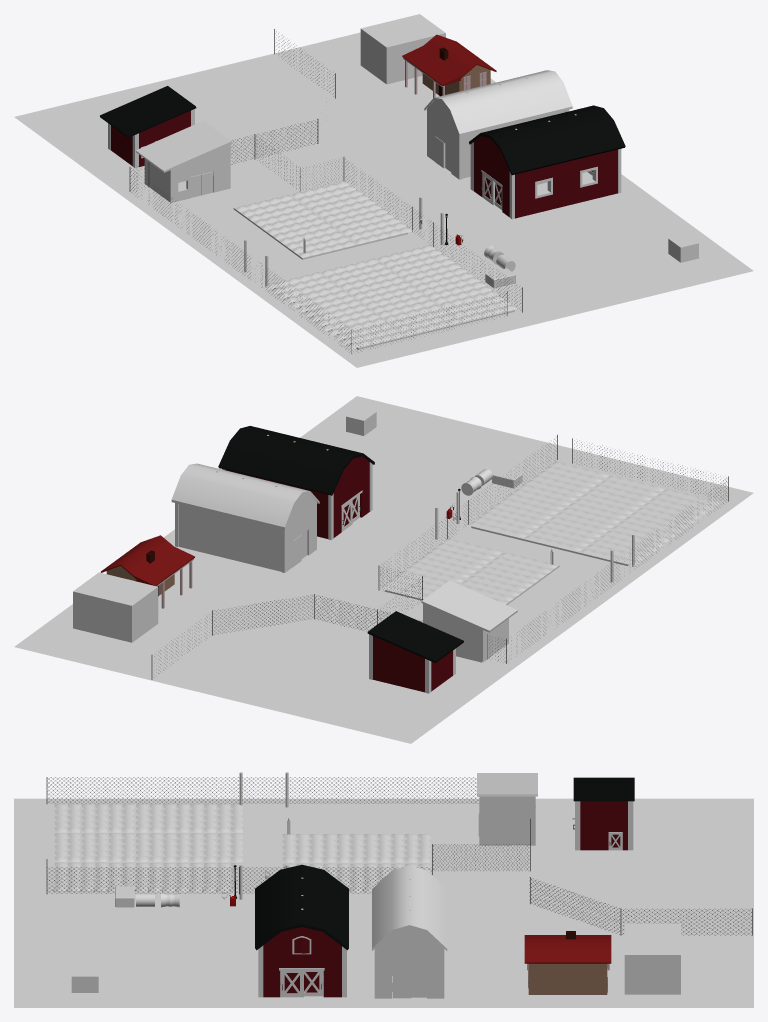
The model's file is MSH_Escenario.FBX.
3 renders of one model, top to bottom at view 1: azimuth 30°, elevation 25°; view 2: azimuth 150°, elevation 25°; view 3: azimuth 270°, elevation 25°, orthographic. The views are drawn at different scales.
Parts seen in each view (by area): view 1: Piso, MSH_Establo, Box001, Box046, Box162, Reja, Box005, G_Casa, Box002, Box064, Box058, Box043 (+3 smaller); view 2: Piso, MSH_Establo, Box001, Box162, Box046, Box005, Box044, Reja, G_Casa, Box064, Box002, Box043 (+3 smaller); view 3: Piso, Reja, MSH_Establo, Box001, G_Casa, Box046, Box162, Box005, Box045, Box060, Box002, Box064 (+6 smaller).
Part boxes in pixels (x1=…): Piso: x1=14, y1=32, x2=753, y2=367; MSH_Establo: x1=469, y1=105, x2=625, y2=219; Box001: x1=270, y1=245, x2=514, y2=349; Box046: x1=424, y1=70, x2=572, y2=136; Box162: x1=100, y1=86, x2=196, y2=168; Reja: x1=129, y1=29, x2=522, y2=353; Box005: x1=360, y1=14, x2=445, y2=84; G_Casa: x1=402, y1=34, x2=496, y2=98; Box002: x1=233, y1=182, x2=407, y2=259; Box064: x1=135, y1=120, x2=231, y2=172; Box058: x1=170, y1=144, x2=230, y2=202; Box043: x1=427, y1=100, x2=462, y2=179; Piso: x1=14, y1=396, x2=753, y2=743; MSH_Establo: x1=218, y1=426, x2=374, y2=540; Box001: x1=471, y1=461, x2=716, y2=565; Box162: x1=367, y1=611, x2=463, y2=693; Box046: x1=171, y1=463, x2=319, y2=529; Box005: x1=73, y1=572, x2=158, y2=642; Box044: x1=178, y1=504, x2=281, y2=571; Reja: x1=151, y1=434, x2=728, y2=679; G_Casa: x1=101, y1=535, x2=194, y2=608; Box064: x1=421, y1=580, x2=517, y2=632; Box002: x1=385, y1=540, x2=559, y2=605; Box043: x1=281, y1=493, x2=316, y2=572; Piso: x1=14, y1=798, x2=753, y2=1007; Reja: x1=46, y1=777, x2=752, y2=935; MSH_Establo: x1=255, y1=864, x2=348, y2=997; Box001: x1=53, y1=807, x2=243, y2=891; G_Casa: x1=524, y1=931, x2=611, y2=994; Box046: x1=372, y1=865, x2=447, y2=950; Box162: x1=572, y1=777, x2=634, y2=850; Box005: x1=624, y1=923, x2=680, y2=994; Box045: x1=374, y1=927, x2=444, y2=998; Box060: x1=479, y1=796, x2=535, y2=845; Box002: x1=282, y1=834, x2=431, y2=891; Box064: x1=477, y1=773, x2=537, y2=796.
Size of the model in its own units: 5464 by 924 by 8173.
